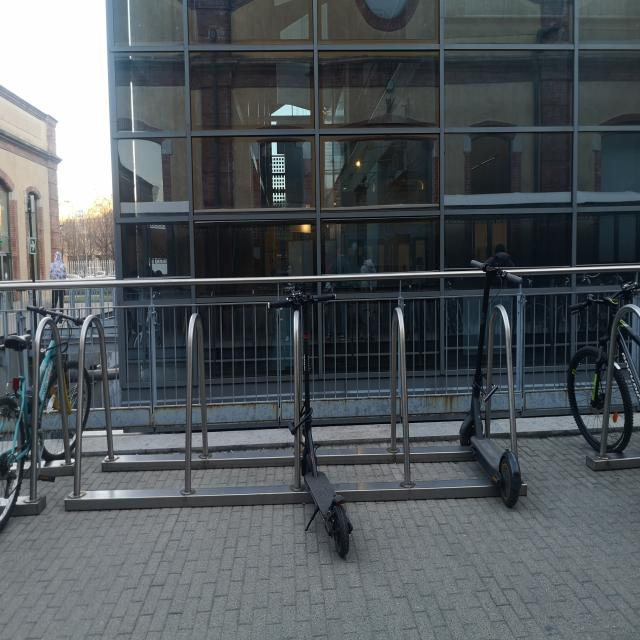Bicycle: (277, 250, 373, 574), (0, 272, 114, 522), (458, 241, 540, 531), (564, 255, 640, 513)
